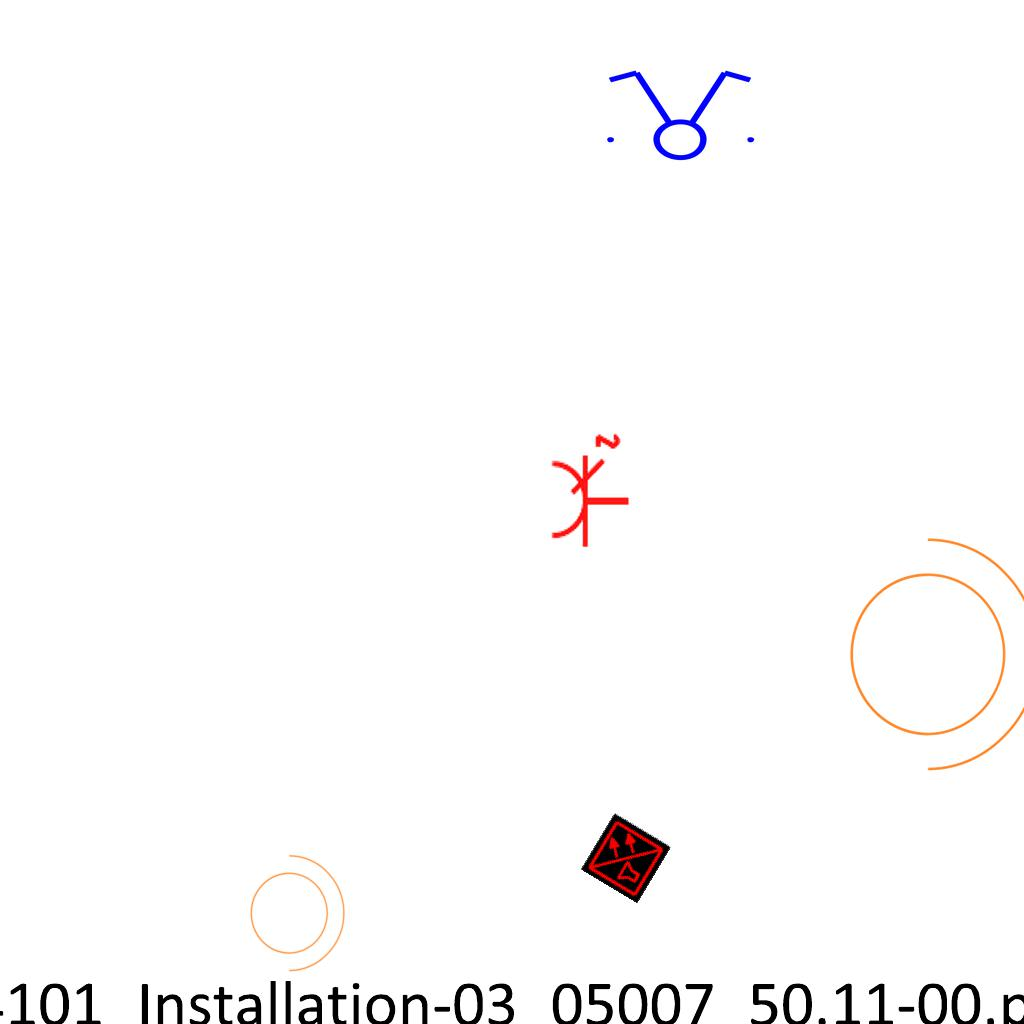OKW_Multisensormelder_(Kombination_optischer_Rauch-Kahlenmonoxid_Waerme-Melder): (580, 812, 672, 904)
Scheinwerfer_fuer_Alarmbeleuchtung: (825, 516, 1024, 780), (238, 844, 350, 976)
Schukosteckdose_mehrfach: (547, 431, 635, 552)
Serienschalter: (595, 66, 763, 162)
